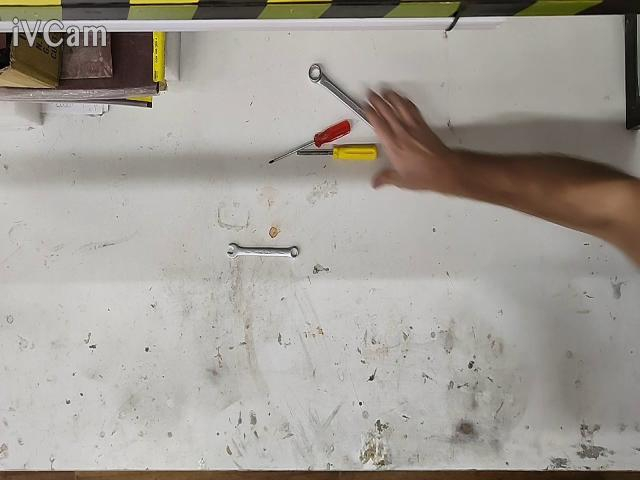Hand: (365, 88, 640, 267)
Screwdriver: (268, 120, 350, 165), (296, 144, 378, 160)
Wrench: (308, 65, 376, 131), (227, 243, 298, 259)
